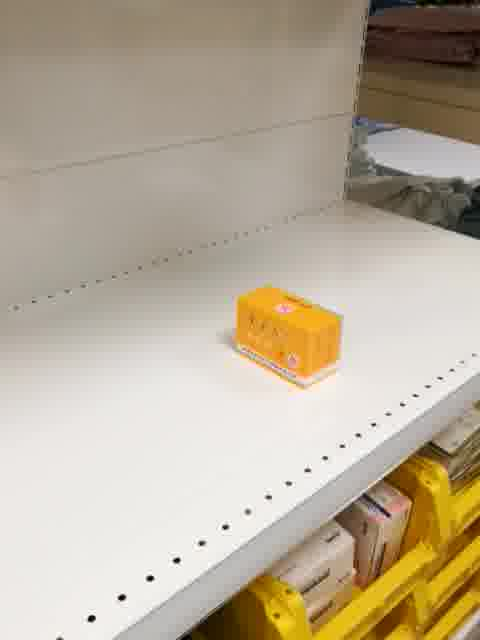jasminetea: (234, 285, 344, 390)
